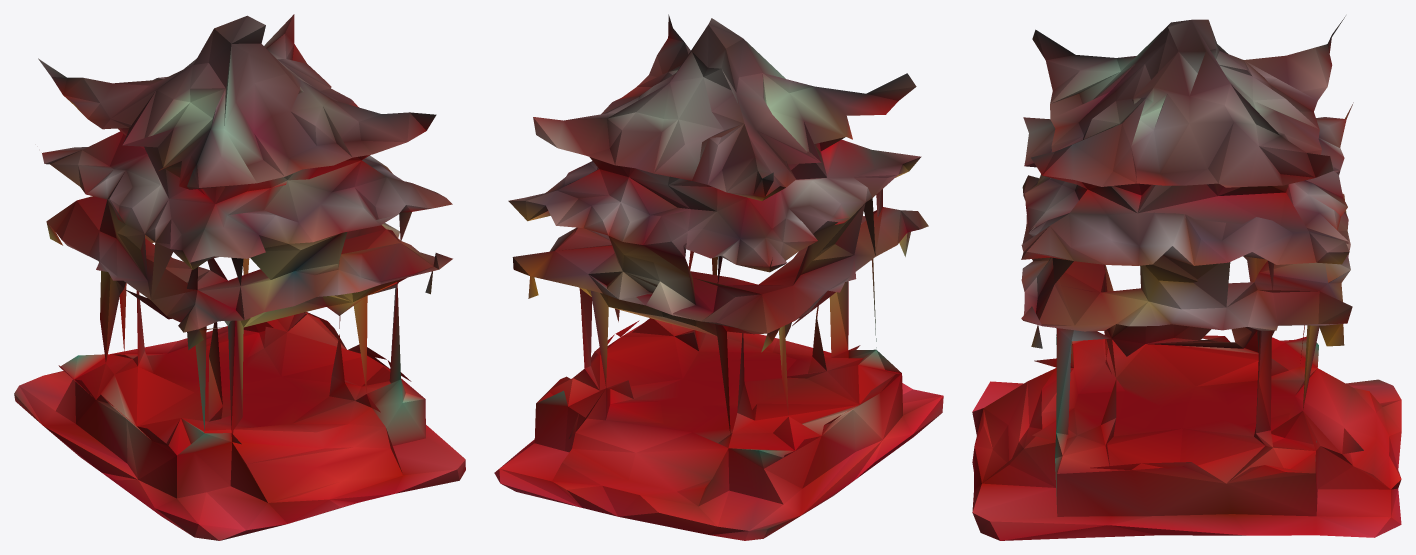
The model's file is bq_library_pagoda.vc2.glb.
3 views of the same model, side by side, from view 1: azimuth 30°, elevation 25°; view 2: azimuth 150°, elevation 25°; view 3: azimuth 270°, elevation 25° (orthographic). The views are drawn at different scales.
Parts seen in each view (by area): view 1: bq_library_pagoda; view 2: bq_library_pagoda; view 3: bq_library_pagoda.
Boxes of the visible parts, x1,y1,x2,y2 form: bq_library_pagoda: [14, 14, 465, 540]; bq_library_pagoda: [494, 14, 943, 540]; bq_library_pagoda: [972, 16, 1401, 540].
Size of the model in its own units: 1.18 by 1.7 by 1.46.
